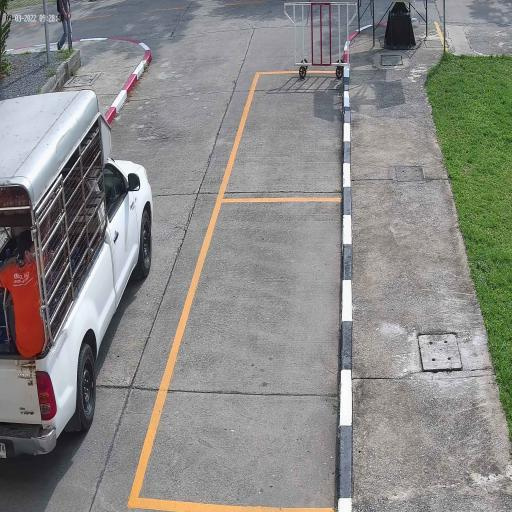car: (0, 87, 155, 462)
